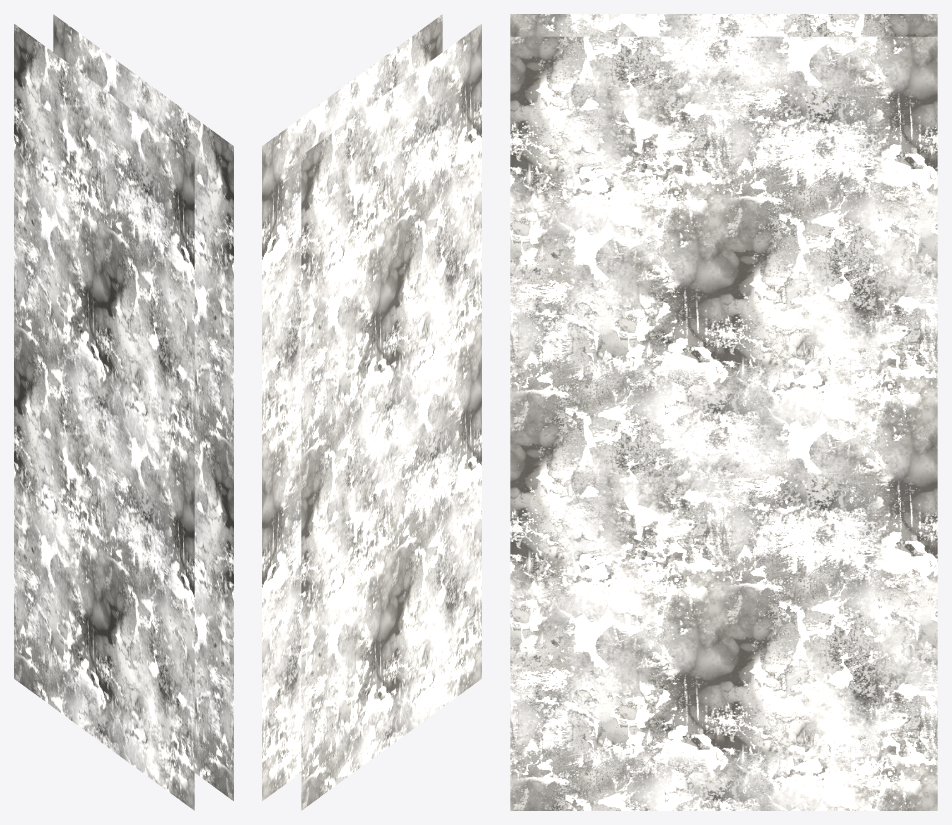
File: SM_wall_A_int_2x4_01_01.fbx
3 views of the same model, side by side, from view 1: azimuth 30°, elevation 25°; view 2: azimuth 150°, elevation 25°; view 3: azimuth 270°, elevation 25° (orthographic). The views are drawn at different scales.
Visible parts, largest first — view 1: SM_wall_A_int_2x4_01_01_LOD0; view 2: SM_wall_A_int_2x4_01_01_LOD0; view 3: SM_wall_A_int_2x4_01_01_LOD0.
Part boxes in pixels (<box>): SM_wall_A_int_2x4_01_01_LOD0: <box>14,14,233,810</box>; SM_wall_A_int_2x4_01_01_LOD0: <box>262,14,481,810</box>; SM_wall_A_int_2x4_01_01_LOD0: <box>510,14,937,810</box>.
Bounding box in the file's own units: 25 × 200 × 400.
Materials: 1 (1 with a texture image).
